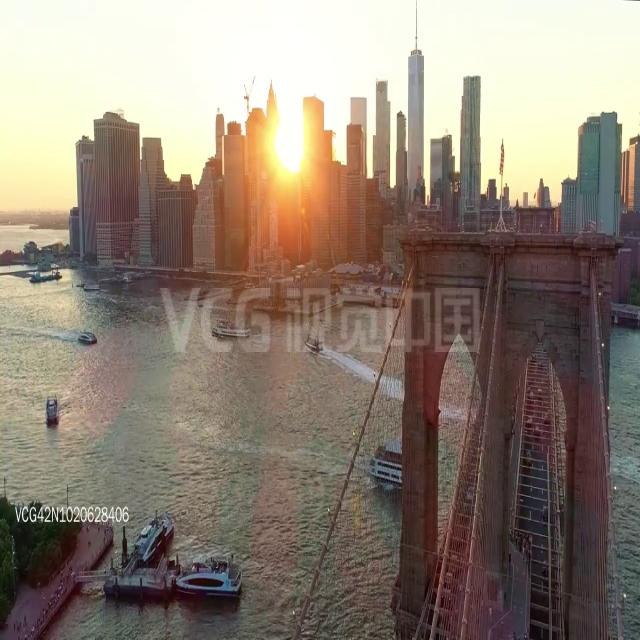houseboat: (176, 557, 243, 595), (135, 501, 175, 560), (74, 328, 98, 353), (46, 387, 59, 428), (306, 336, 323, 354), (83, 280, 102, 292)
passenger ship: (352, 436, 402, 488), (211, 314, 255, 338)
